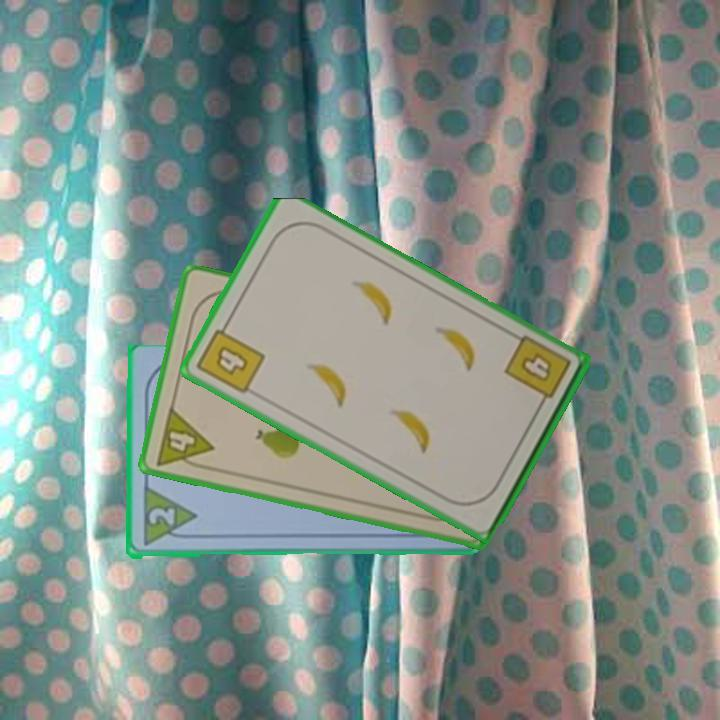2p: (139, 485, 198, 550)
4b: (193, 317, 268, 397), (500, 331, 574, 412)
4p: (152, 404, 216, 474)
